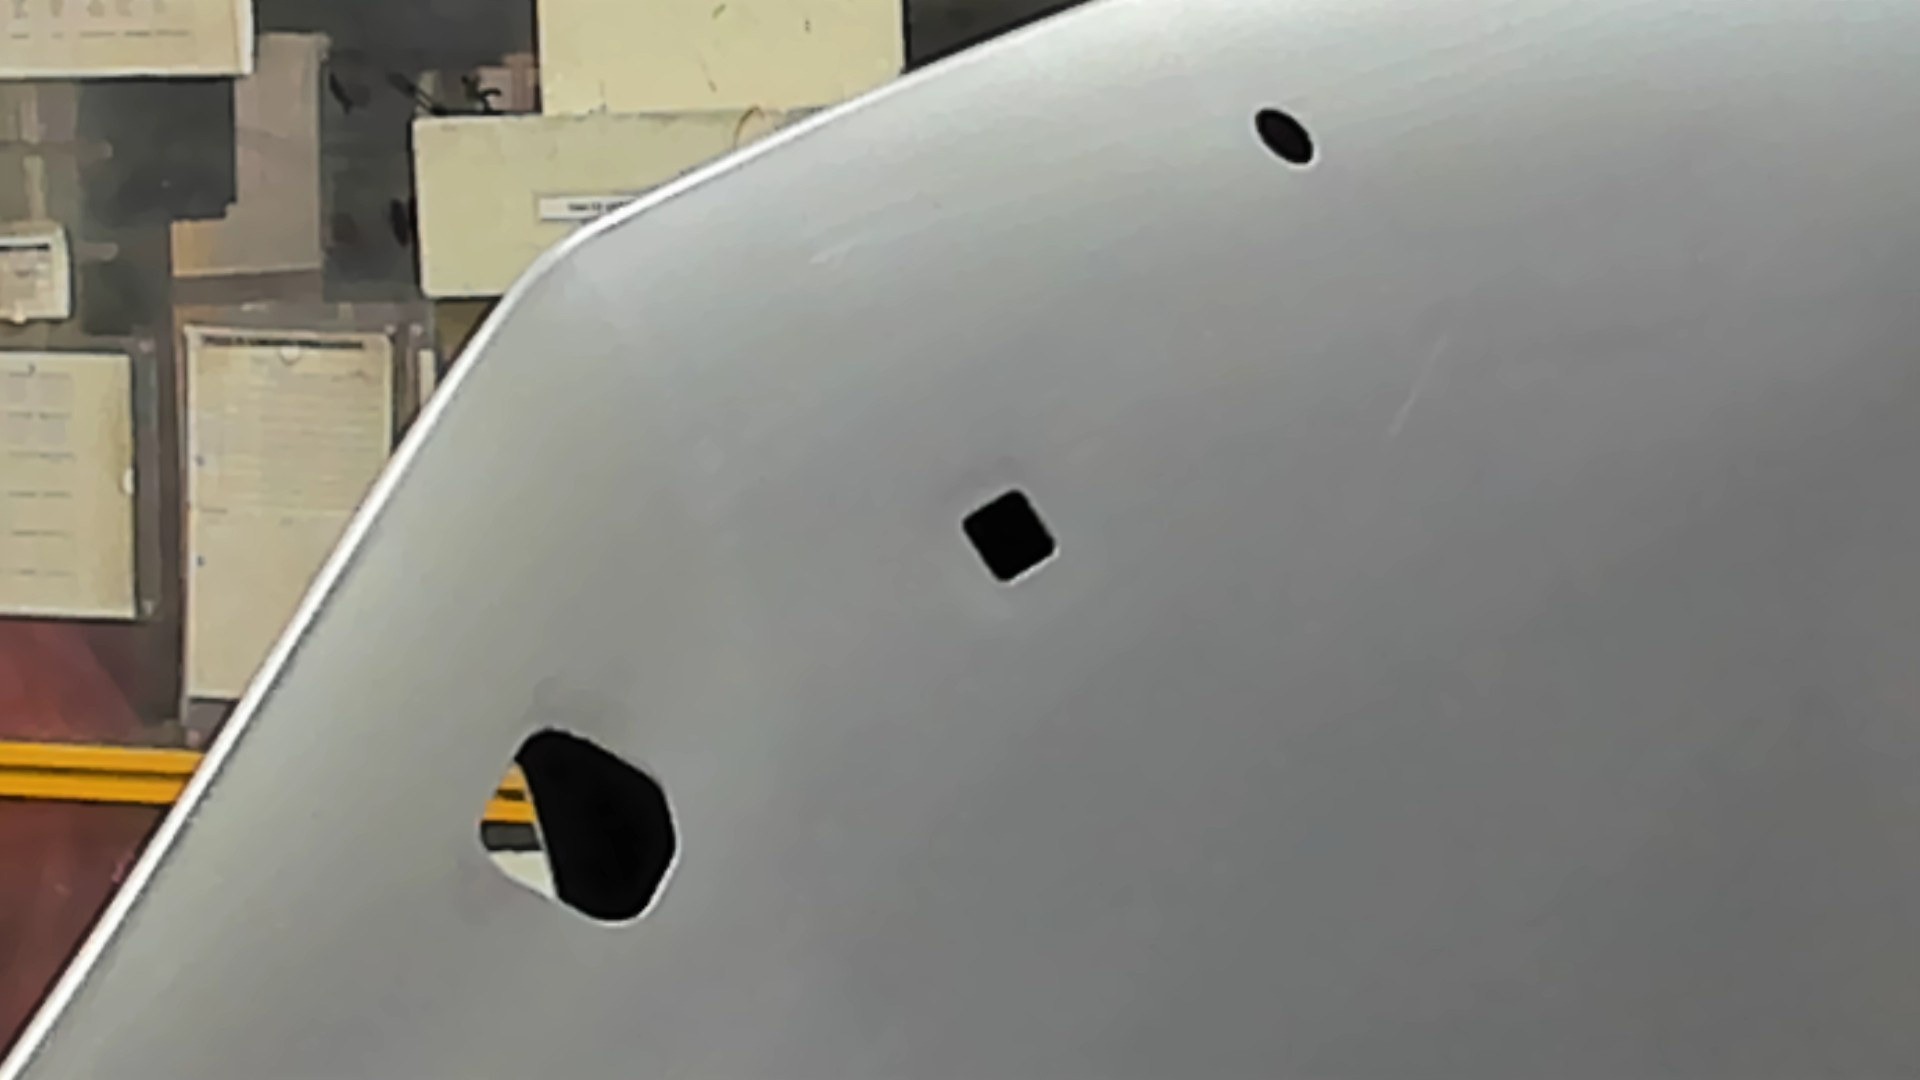chico: (1247, 103, 1319, 169)
grande: (473, 723, 684, 932)
mediano: (955, 487, 1062, 588)
